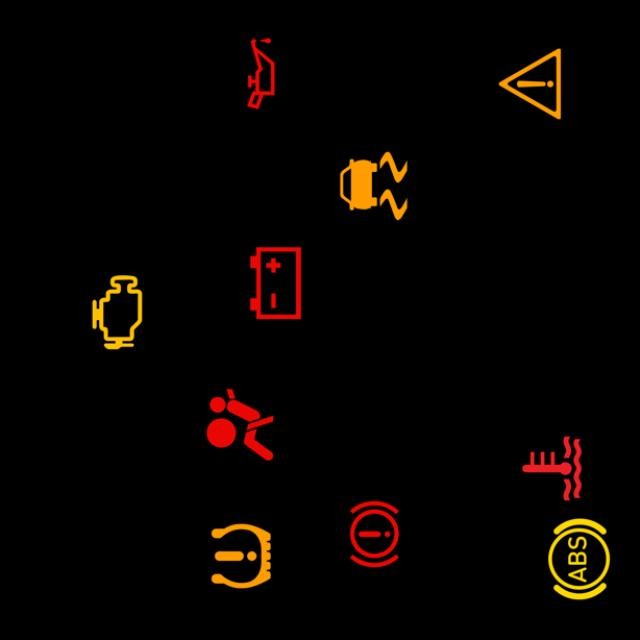Anti Lock Braking System: (534, 515, 622, 603)
Braking System Issue: (330, 490, 418, 578)
Charging System Issue: (230, 239, 318, 327)
Check Engine: (72, 268, 160, 356)
Electronic Stability Problem -ESP-: (328, 142, 416, 230)
Engine Overheating Warning Light: (507, 424, 595, 513)
Low Engine Oil Warning Light: (216, 29, 304, 118)
Low Tire Pressure Warning Light: (196, 512, 284, 600)
Master warning light: (485, 40, 573, 128)
SRS-Airbag: (195, 381, 283, 469)
